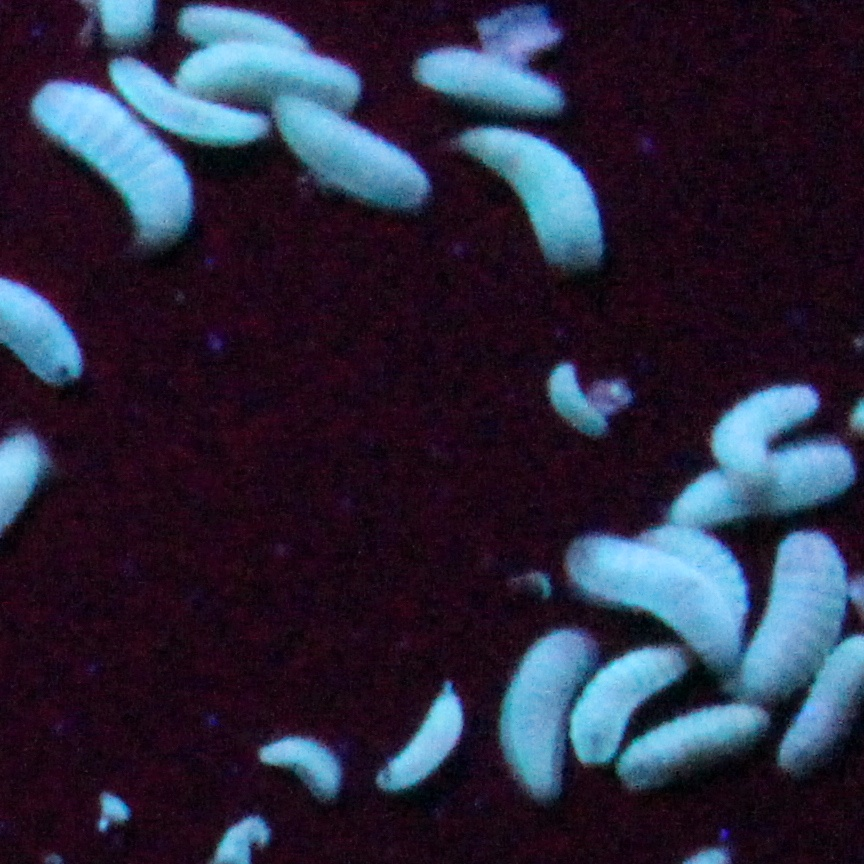larve: (38, 77, 192, 241), (563, 535, 734, 670), (457, 122, 605, 261), (283, 96, 431, 216), (738, 532, 844, 696), (105, 48, 263, 141), (675, 446, 855, 524), (576, 645, 683, 761), (615, 706, 760, 790), (499, 622, 570, 793), (189, 35, 354, 103), (382, 681, 462, 808), (421, 48, 557, 119), (715, 393, 815, 483), (267, 725, 341, 806)
